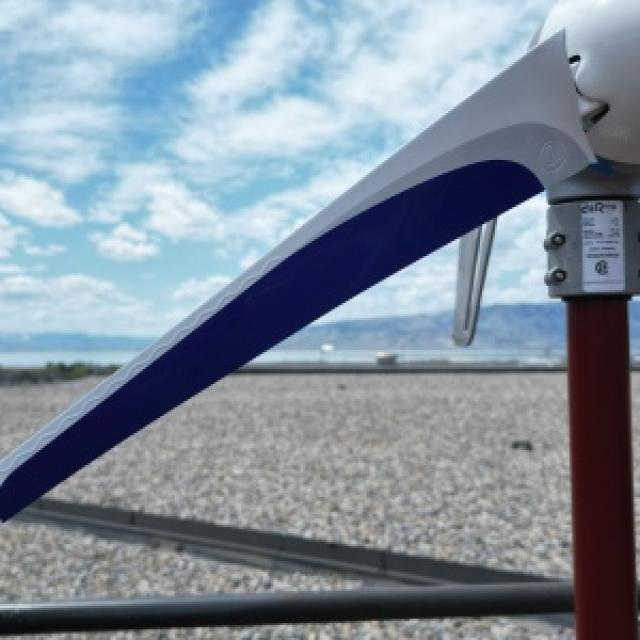healthy: (567, 294, 631, 638)
